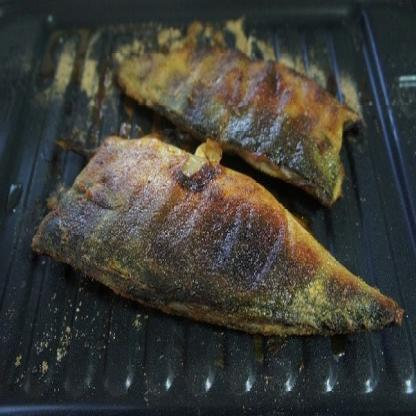Peixe: (29, 132, 413, 348), (113, 21, 365, 202)
